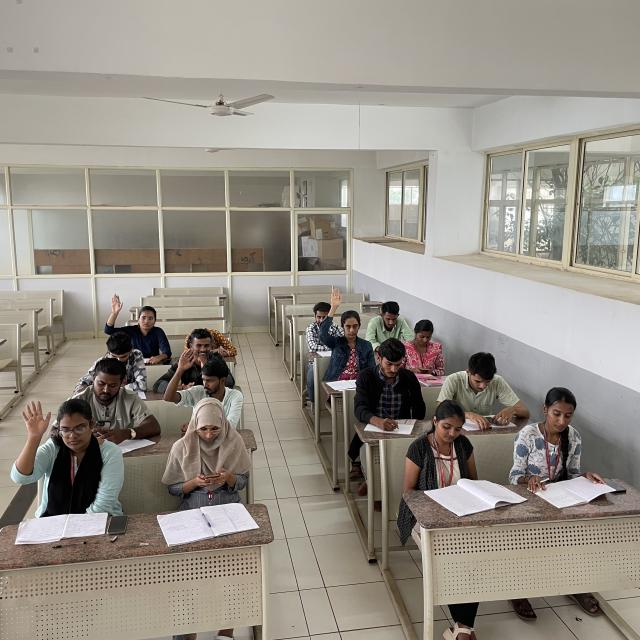Hand Rising: (15, 388, 95, 502), (165, 350, 246, 420), (322, 284, 369, 377), (104, 292, 168, 360)
Reading: (409, 406, 504, 515)
Sleeping: (184, 321, 236, 359)
Using Phone: (160, 402, 252, 502), (82, 357, 155, 444), (456, 355, 531, 426), (407, 319, 447, 376)
Writing: (518, 382, 592, 497), (361, 339, 417, 435)
